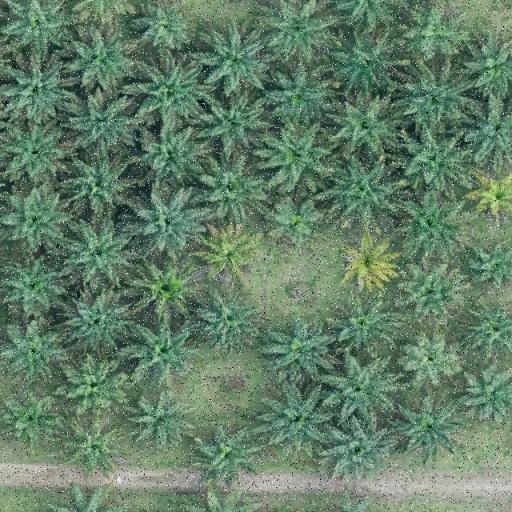Ganoderma: (343, 240, 391, 284), (206, 234, 252, 273), (143, 267, 187, 307), (477, 179, 512, 212)
